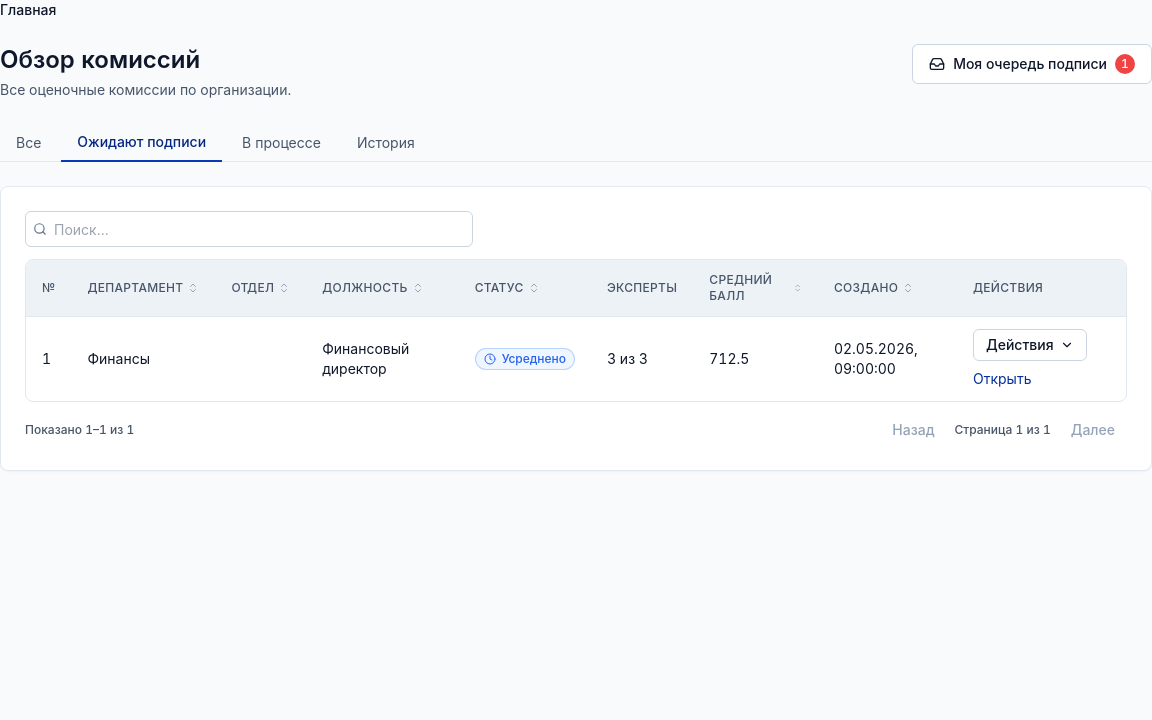
Test case: <CeoPanelsPage /> inline sign-off (dropdown UX) › shows inline error strip on 400 response and table stays interactive
Click the button with test id "ceo-actions-menu-trigger" at [1030, 345], box x1=973 y1=329 x2=1087 y2=361
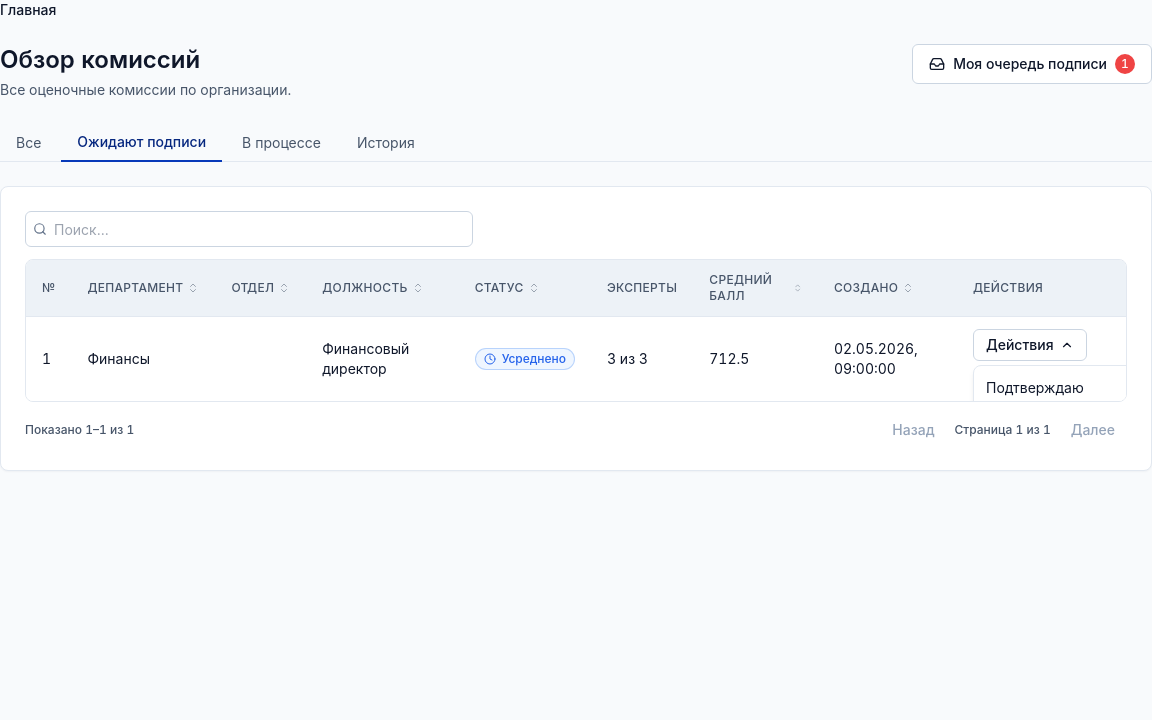
Click the menu item with test id "ceo-inline-approve" at [1061, 388], box x1=974 y1=370 x2=1148 y2=406
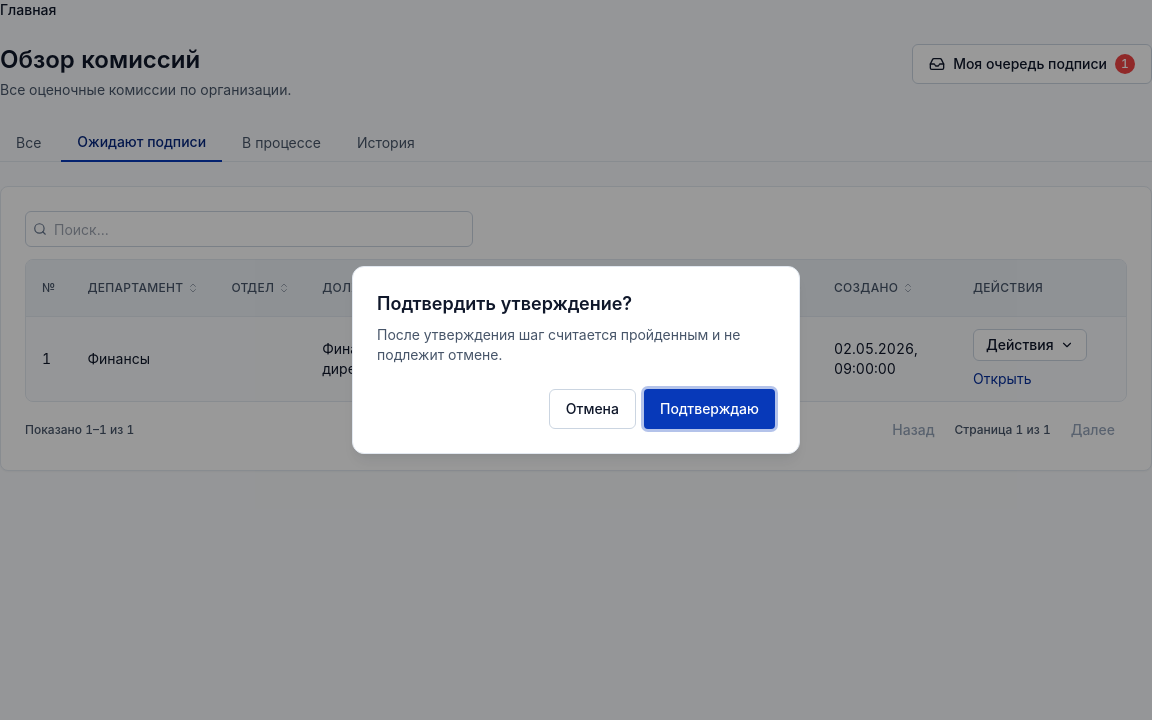
Now the dialog is shown
Click the button "Подтверждаю" at [710, 409], box x1=644 y1=389 x2=775 y2=429
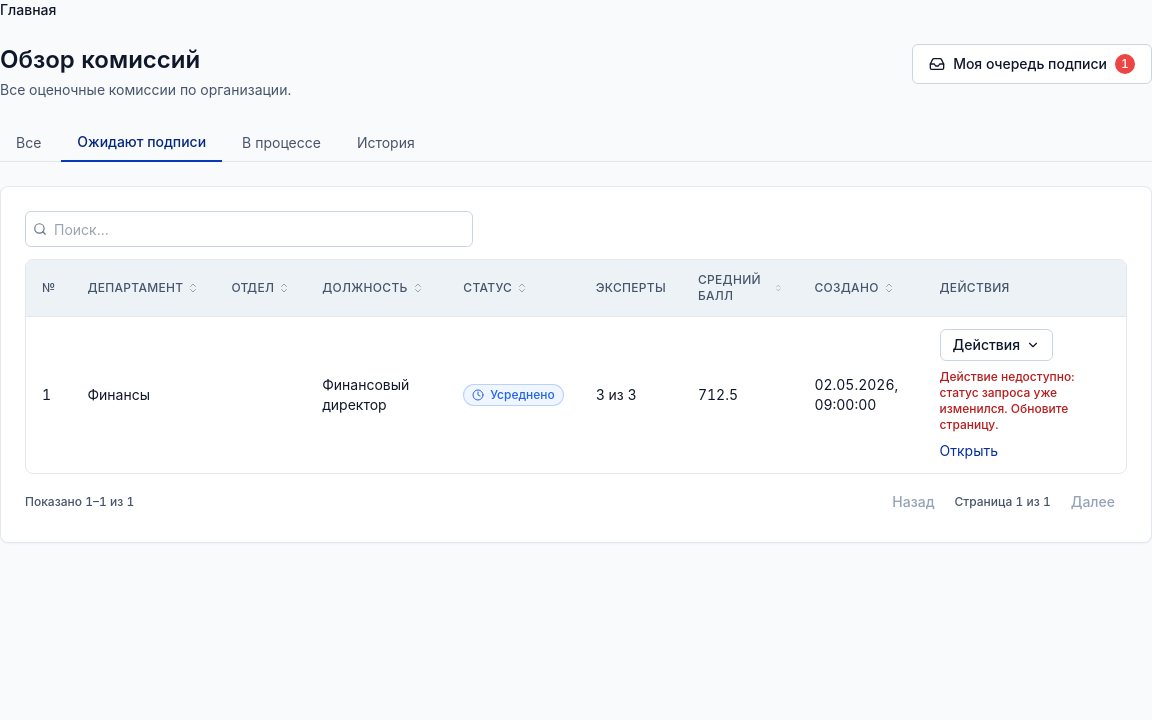
Expected: the button with test id "ceo-actions-menu-trigger" is shown, x1=940 y1=329 x2=1053 y2=361
Now the dialog is gone
Now the message "Действие недоступно: статус запроса уже изменился. Обновите страницу." is shown, box x1=940 y1=369 x2=1074 y2=432
